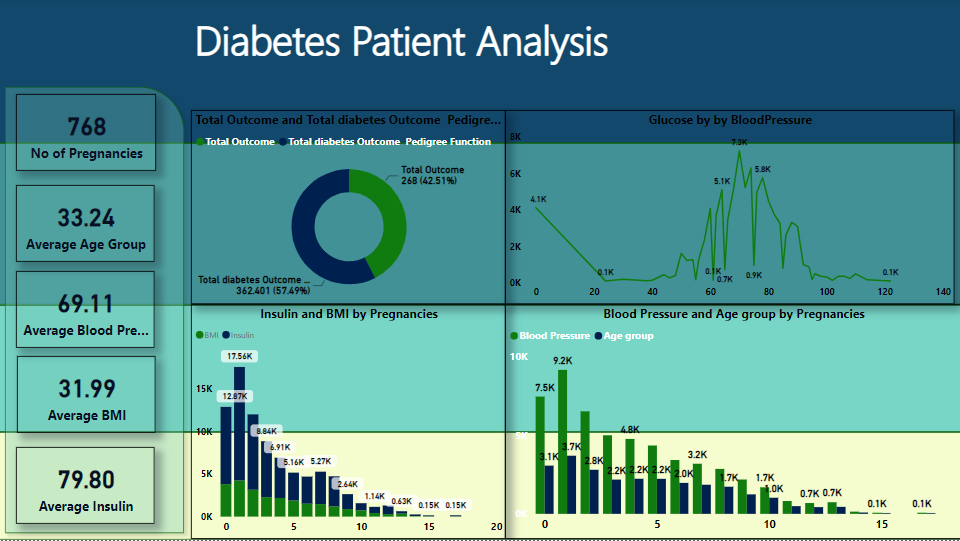

This screenshot's page, from the dashboard's own definition file:
{"tool":"powerbi","page":{"name":"Page 1","canvas":[1280,720],"ordinal":0},"visuals":[{"type":"shape","box":[0,0,1280.6,192.6],"z":0},{"type":"shape","box":[0,192.9,1280,214.7],"z":1000},{"type":"shape","box":[0,407.8,1280.6,168.7],"z":2000},{"type":"shape","box":[0,576.1,1280,143],"z":3000},{"type":"textbox","box":[12,0,364,85],"z":4000},{"type":"shape","box":[0,108.4,256.3,611.1],"z":5000},{"type":"card","fields":{"Values":["CountNonNull(diabetes.Pregnancies)"]},"box":[23.4,127.9,185.6,101.7],"z":6000},{"type":"card","fields":{"Values":["Avg(diabetes.Age)"]},"box":[23.4,248.9,184.2,101.7],"z":7000},{"type":"card","fields":{"Values":["Avg(diabetes.BloodPressure)"]},"box":[23.4,363,184.2,101.7],"z":8000},{"type":"card","fields":{"Values":["Avg(diabetes.BMI)"]},"box":[24.7,475.7,184.2,101.7],"z":9000},{"type":"card","fields":{"Values":["Avg(diabetes.Insulin)"]},"box":[23.4,596.7,184.2,101.7],"z":10000},{"type":"lineStackedColumnComboChart","title":"Insulin and BMI by Pregnancies","fields":{"Category":["diabetes.Pregnancies"],"Y":["Sum(diabetes.BMI)","Sum(diabetes.Insulin)"]},"box":[255.7,407,418,312.1],"z":11000},{"type":"clusteredColumnChart","fields":{"Category":["diabetes.Pregnancies"],"Y":["Sum(diabetes.BloodPressure)","Sum(diabetes.Age)"]},"box":[673.7,407,606.3,312.1],"z":12000},{"type":"lineChart","fields":{"Y":["Sum(diabetes.Glucose)"],"Category":["diabetes.BloodPressure"]},"box":[673.7,148.5,596.7,258.5],"z":13000},{"type":"donutChart","fields":{"Y":["Sum(diabetes.Outcome)","Sum(diabetes.DiabetesPedigreeFunction)"]},"box":[255.7,148.5,418,258.5],"z":13001},{"type":"textbox","box":[256.4,13.3,751.9,83.7],"z":13002}]}

Visuals, with their boxes in screenshot pixels (x1, y1, x2, y2), scaled from the page's 1280x720 canvas onto the 960x541 screenshot:
shape: crop(0, 0, 959, 145)
shape: crop(0, 145, 959, 306)
shape: crop(0, 306, 959, 433)
shape: crop(0, 433, 959, 540)
textbox: crop(9, 0, 282, 64)
shape: crop(0, 81, 192, 540)
card - CountNonNull(diabetes.Pregnancies): crop(18, 96, 157, 173)
card - Avg(diabetes.Age): crop(18, 187, 156, 263)
card - Avg(diabetes.BloodPressure): crop(18, 273, 156, 349)
card - Avg(diabetes.BMI): crop(19, 357, 157, 434)
card - Avg(diabetes.Insulin): crop(18, 448, 156, 525)
"Insulin and BMI by Pregnancies" lineStackedColumnComboChart: crop(192, 306, 505, 540)
clusteredColumnChart - diabetes.Pregnancies x Sum(diabetes.BloodPressure): crop(505, 306, 959, 540)
lineChart - Sum(diabetes.Glucose) x diabetes.BloodPressure: crop(505, 112, 953, 306)
donutChart - Sum(diabetes.Outcome) x Sum(diabetes.DiabetesPedigreeFunction): crop(192, 112, 505, 306)
textbox: crop(192, 10, 756, 73)
